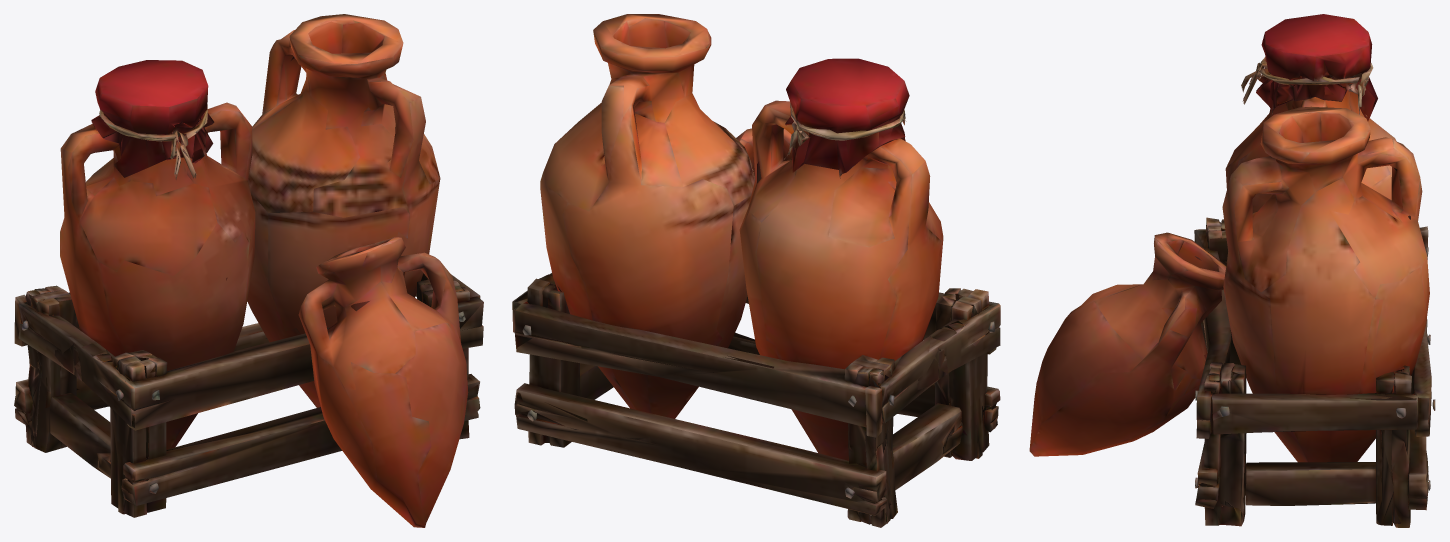
File: decor_amphorae_t1_cluster.trellis.glb
3 views of the same model, side by side, from view 1: azimuth 30°, elevation 25°; view 2: azimuth 150°, elevation 25°; view 3: azimuth 270°, elevation 25° (orthographic). The views are drawn at different scales.
Visible parts, largest first — view 1: world; view 2: world; view 3: world.
Part boxes in pixels (x1=…): world: x1=14, y1=14, x2=483, y2=527; world: x1=512, y1=14, x2=1000, y2=527; world: x1=1029, y1=14, x2=1435, y2=527.
Size of the model in its own units: 0.9893 by 0.9908 by 0.9781.
1 material, 1 textured.
